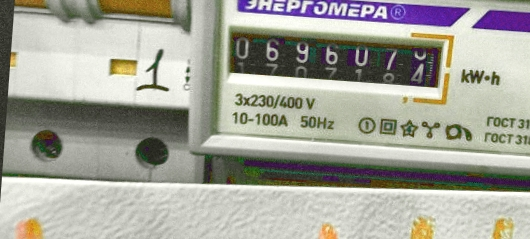0: (232, 34, 251, 59), (352, 40, 368, 66)
4: (408, 59, 425, 85)
6: (262, 36, 281, 61), (322, 39, 340, 64)
7: (381, 45, 398, 72)
9: (292, 38, 309, 63)
screen: (211, 10, 458, 102)
